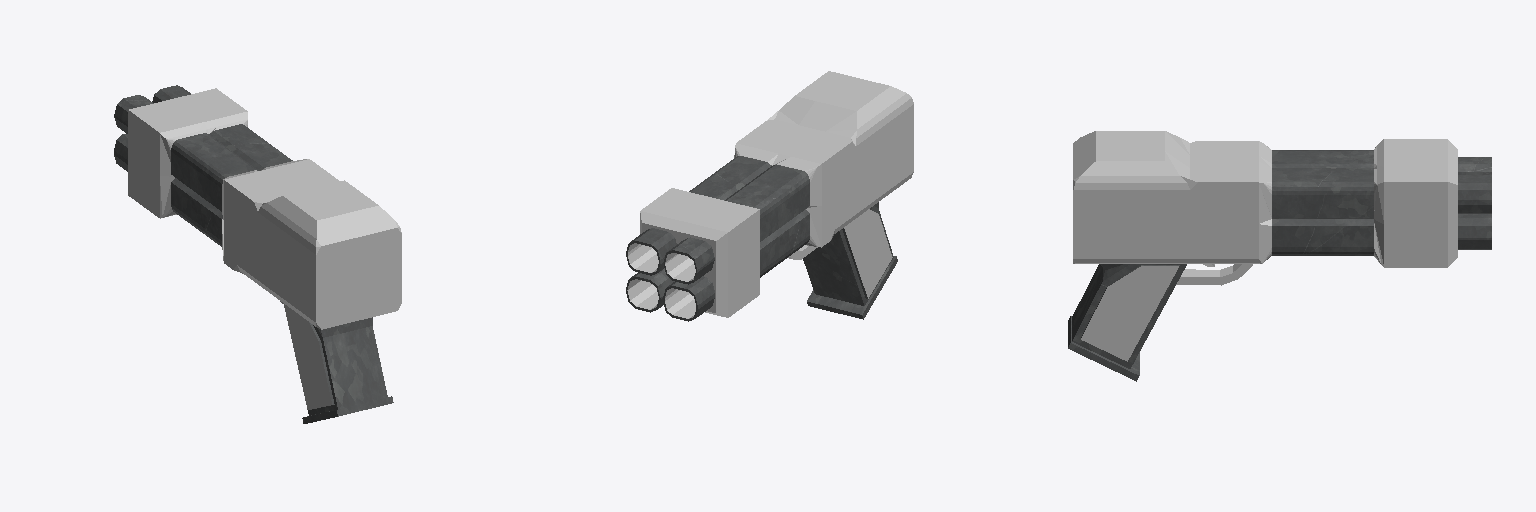
3 renders of one model, left to right at view 1: azimuth 30°, elevation 25°; view 2: azimuth 150°, elevation 25°; view 3: azimuth 270°, elevation 25°, orthographic.
Visible parts, largest first — view 1: Cube; view 2: Cube; view 3: Cube.
Part boxes in pixels (x1,y1,x2,y2): Cube: (114,85,401,423); Cube: (626,71,913,321); Cube: (1068,131,1491,381).
Bounding box in the file's own units: 0.7933 × 1.9 × 3.31.
2 materials, 1 textured.